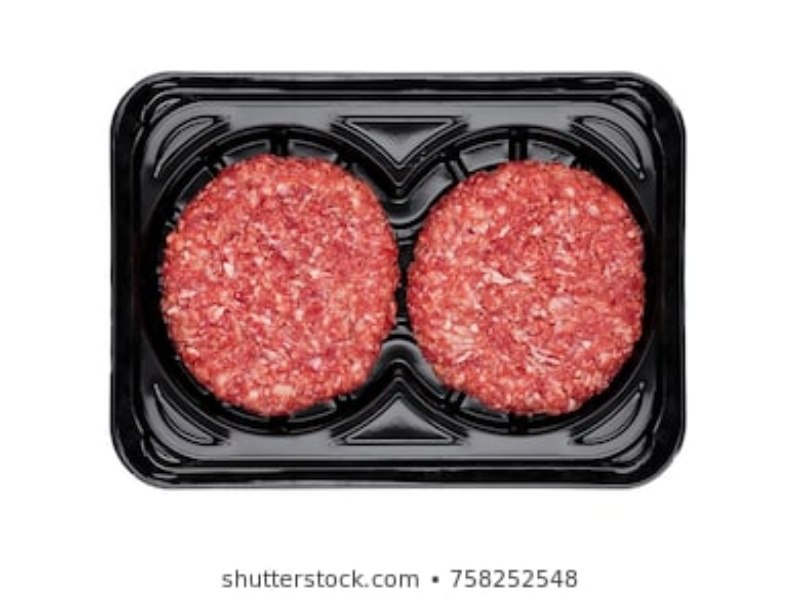plastic-container: (104, 66, 693, 492)
